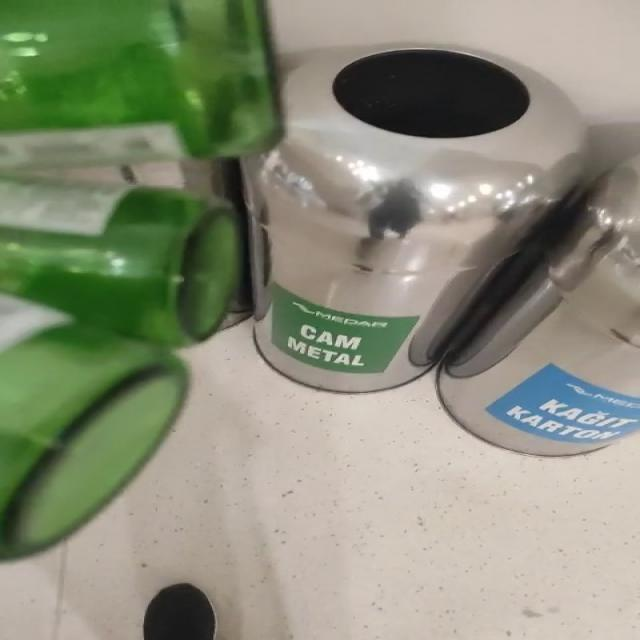glass: (1, 176, 239, 559), (1, 0, 280, 170)
